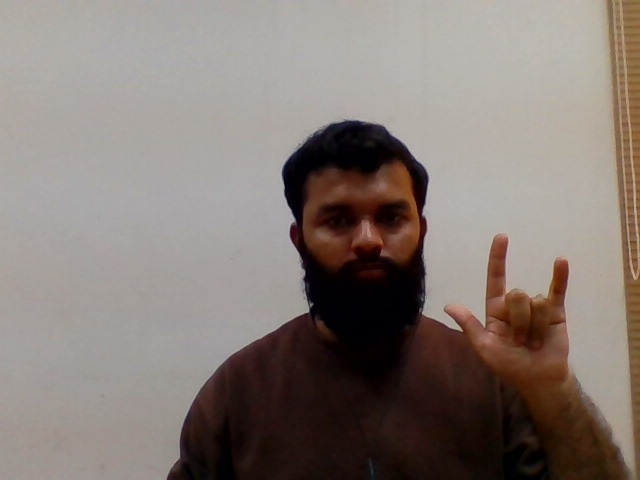I Love you: (440, 227, 591, 389)
